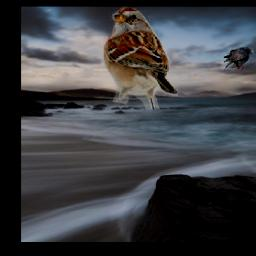Crow: (223, 48, 253, 71)
Sparrow: (103, 6, 177, 110)
